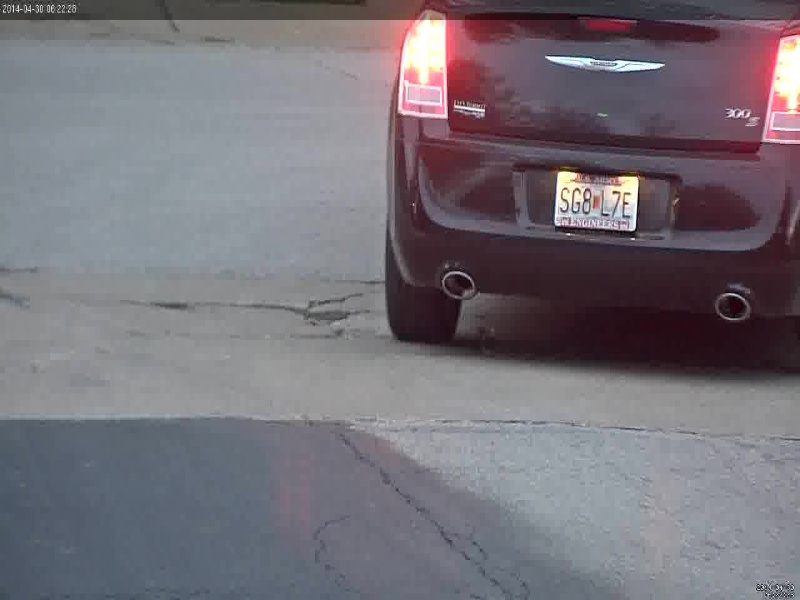licence plate: (554, 169, 639, 236)
